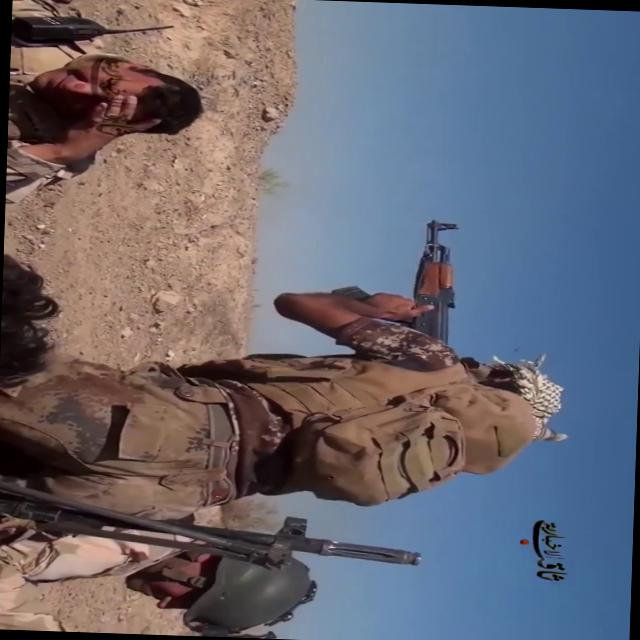long weapon: (345, 207, 480, 362)
